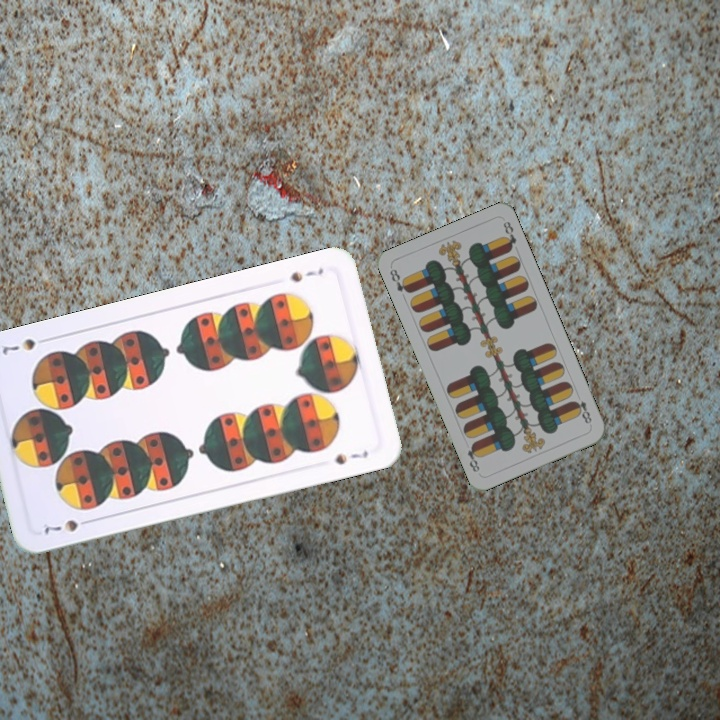E8: (386, 265, 413, 296), (569, 397, 594, 429)
S7: (40, 515, 95, 536), (287, 263, 326, 285)
